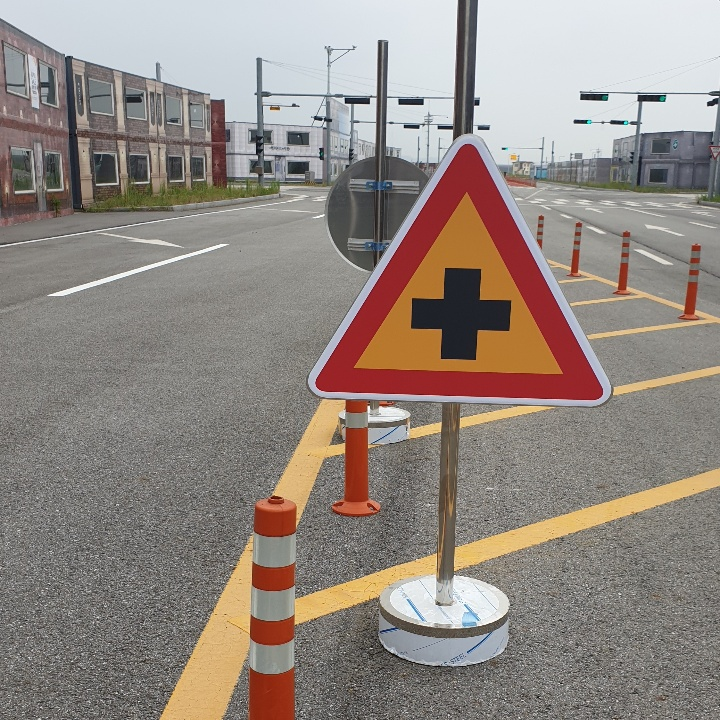inter: (402, 255, 517, 365)
